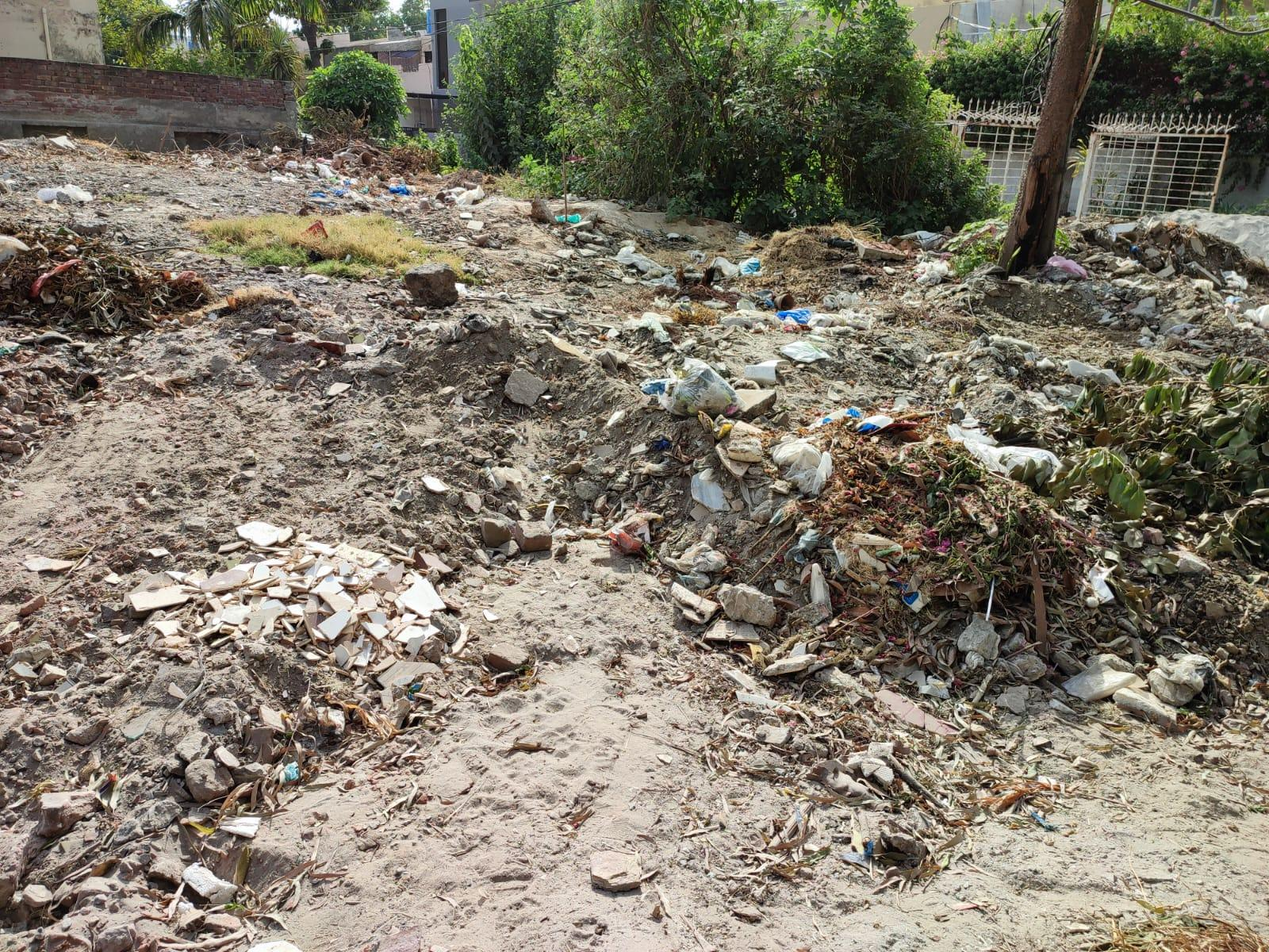garbage: (200, 148, 1269, 729)
